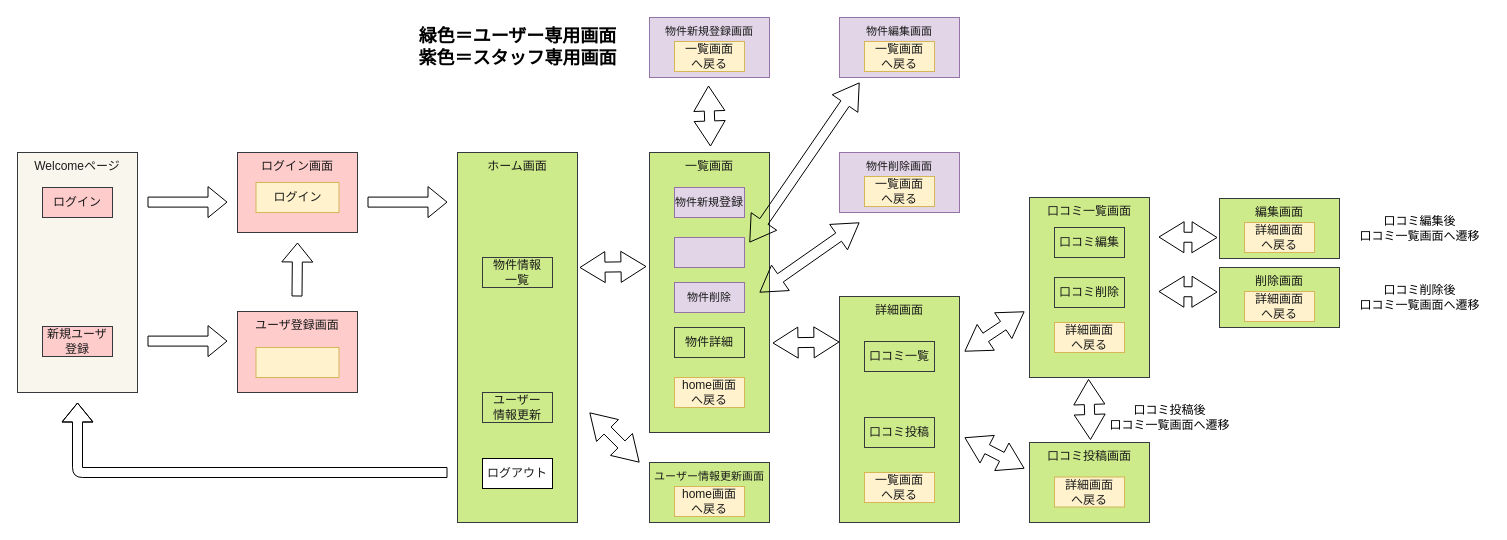
This 1507x540 diagram has some shape labels left out. The shapes that lost their labels are listed below. From the top down, each one's centre as x and y in pixels, then its label:
At pixel 709 252: "物件編集".
At pixel 297 362: "welcome画面へ戻る".
